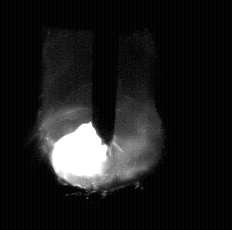arame: (92, 0, 116, 146)
poca: (39, 0, 163, 230)
